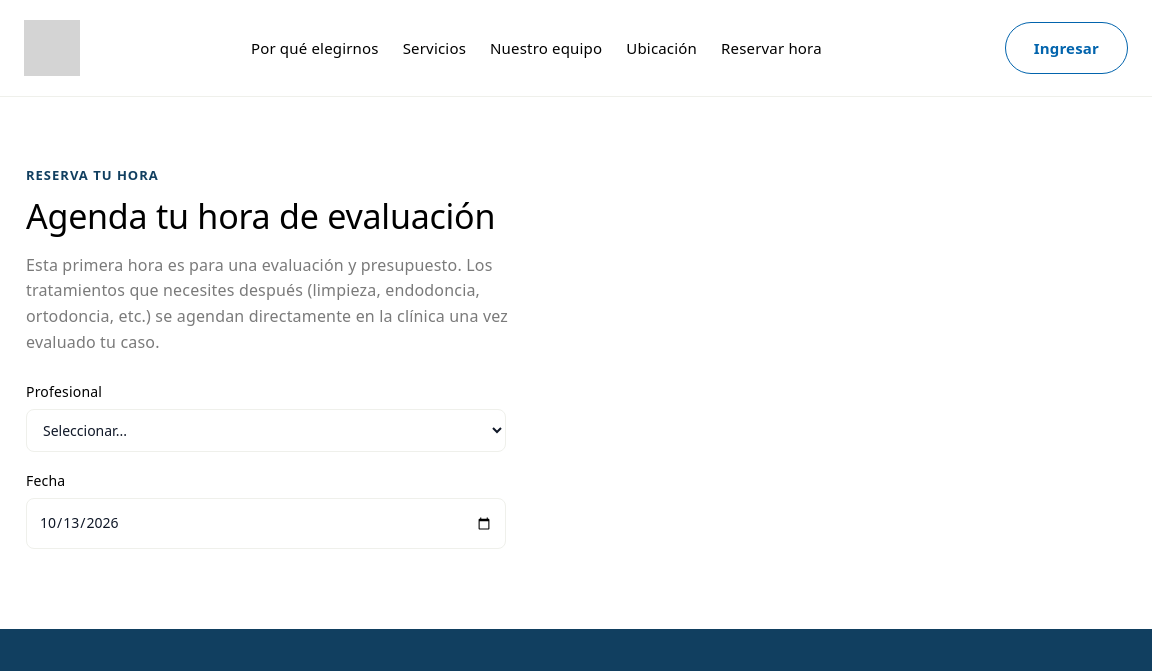
Scenario: ReservarPage › muestra un error si falla la carga de disponibilidad
The width and height of the screenshot is (1152, 671).
Select "Dra. Soto — General" in the dropdown labelled "Profesional" at (266, 431), box [26,409,506,452]
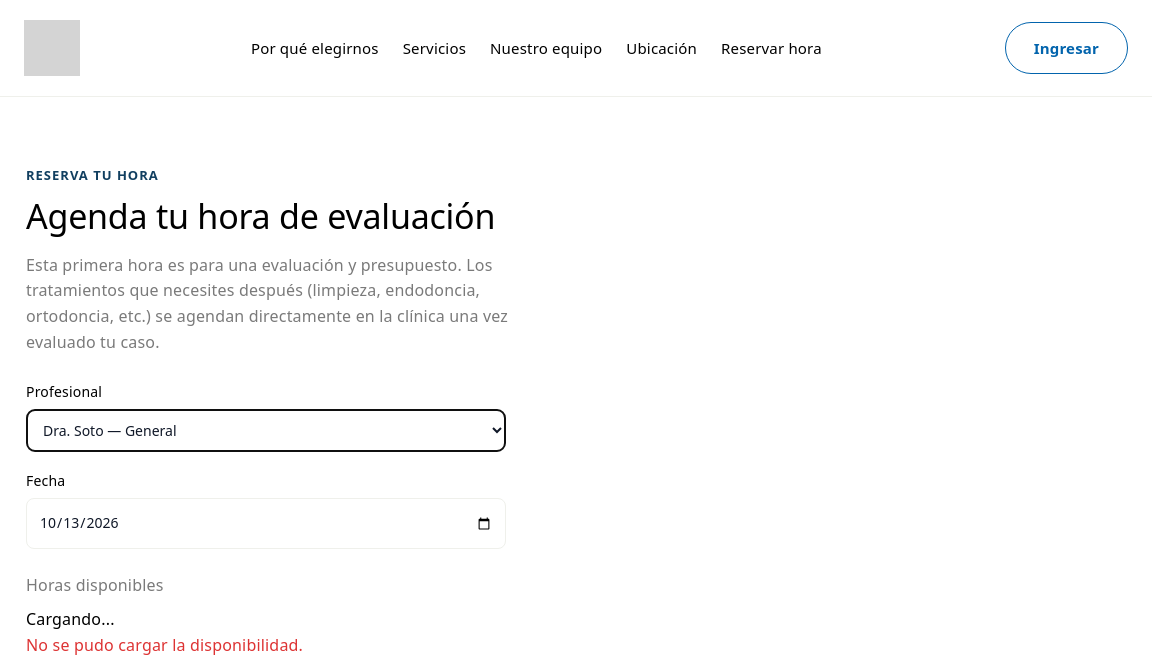
Expected: the message reads "No se pudo cargar la disponibilidad.", [26,634,303,656]
